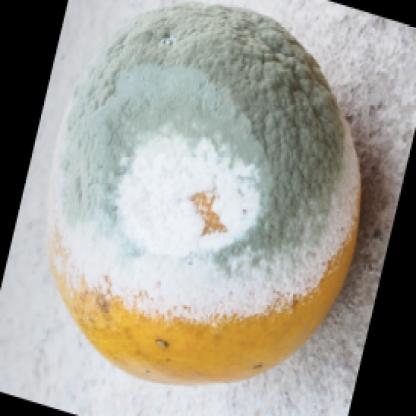rotten: (45, 2, 361, 390)
